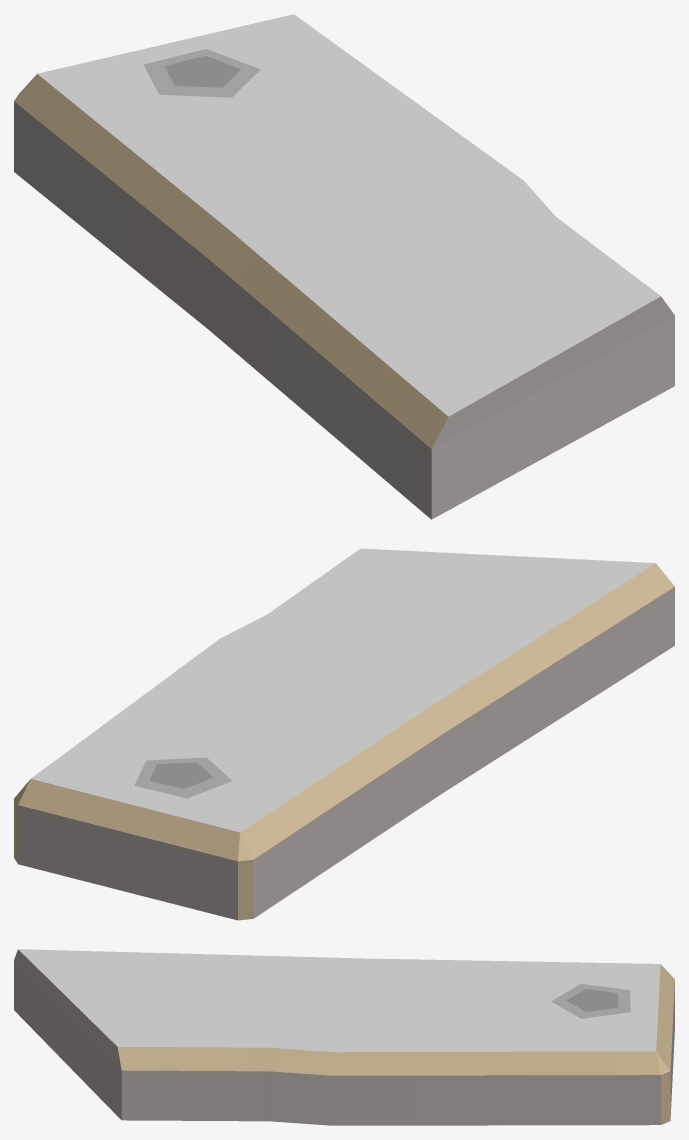
The model's file is WoodBoardH_0.glb.
The picture shows the model from 3 angles, top to bottom: view 1: azimuth 30°, elevation 25°; view 2: azimuth 150°, elevation 25°; view 3: azimuth 270°, elevation 25°; orthographic projection. The views are drawn at different scales.
Visible parts, largest first — view 1: WoodBoardH; view 2: WoodBoardH; view 3: WoodBoardH.
Part boxes in pixels (x1=…): WoodBoardH: x1=14, y1=14, x2=674, y2=519; WoodBoardH: x1=14, y1=548, x2=674, y2=920; WoodBoardH: x1=14, y1=949, x2=674, y2=1125.
Bounding box in the file's own units: 0.5495 × 0.1601 × 1.33.
